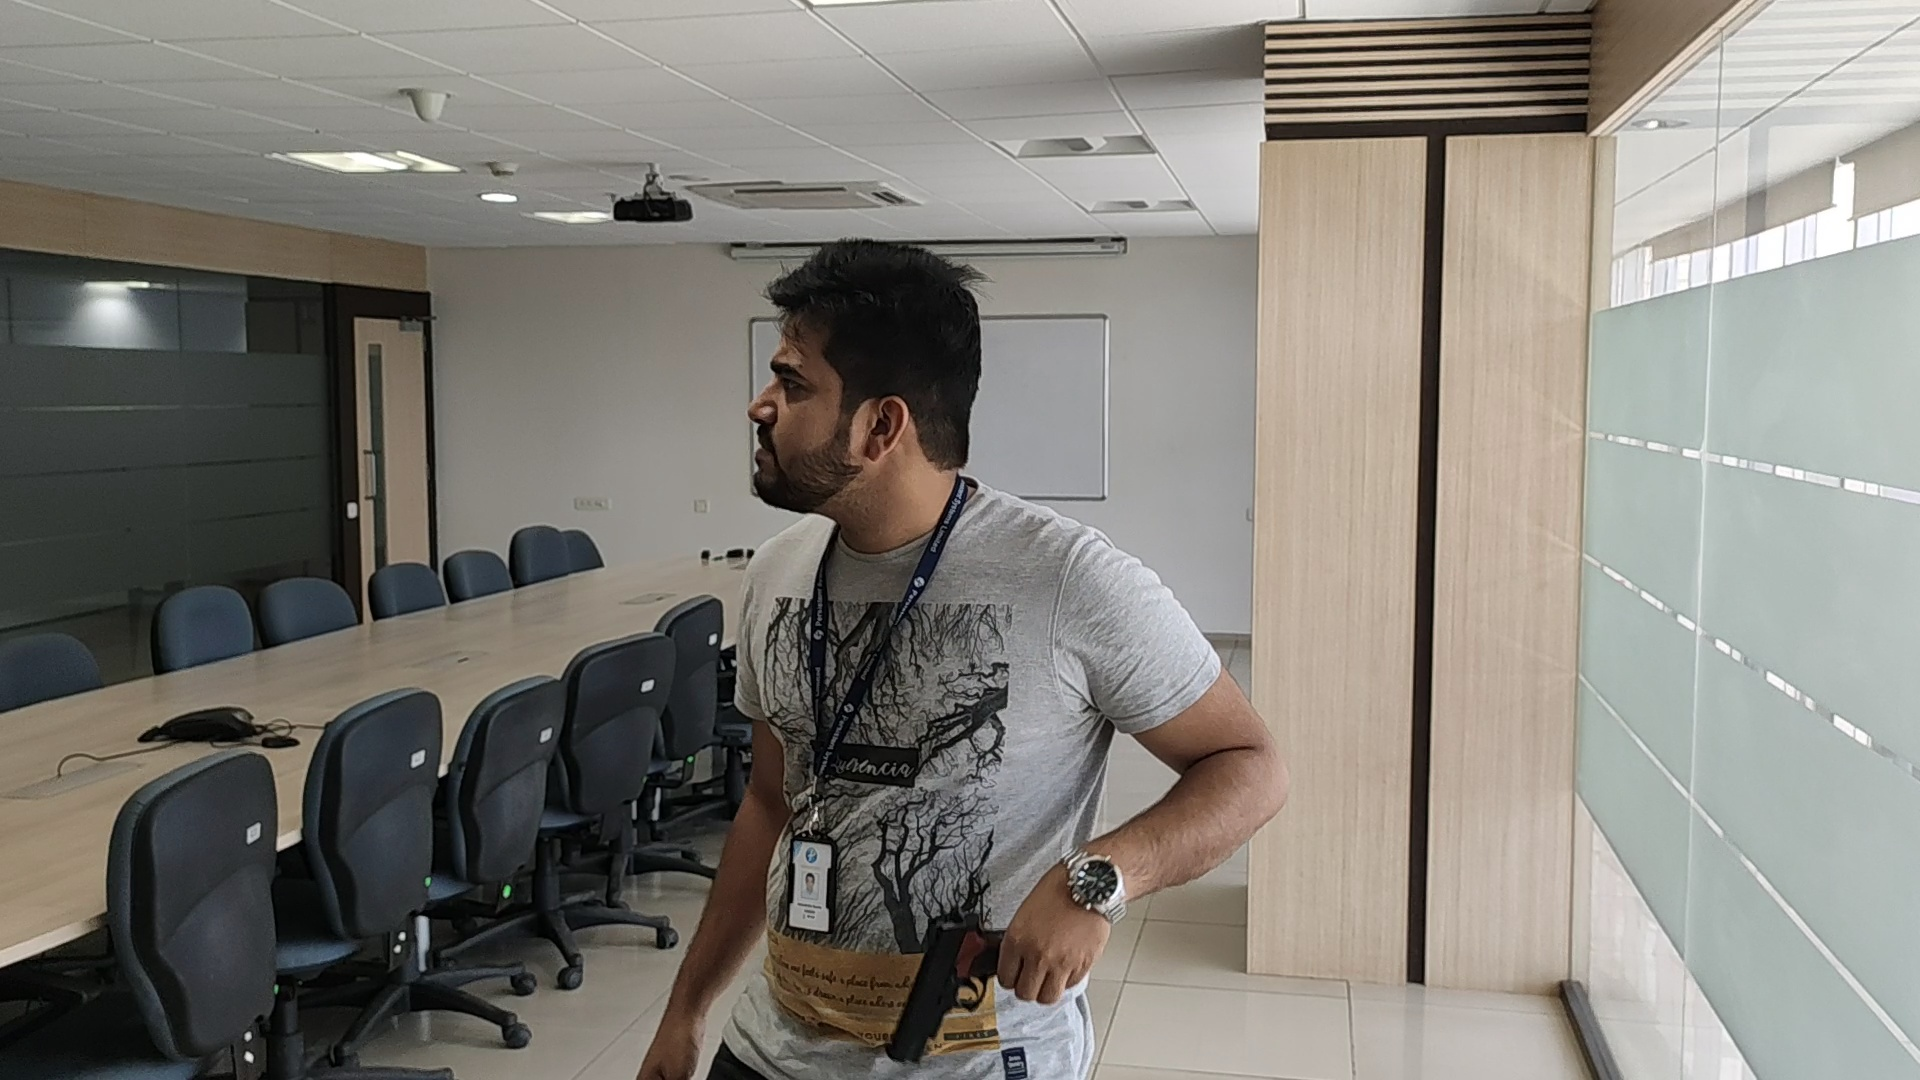gun: (885, 909, 998, 1062)
